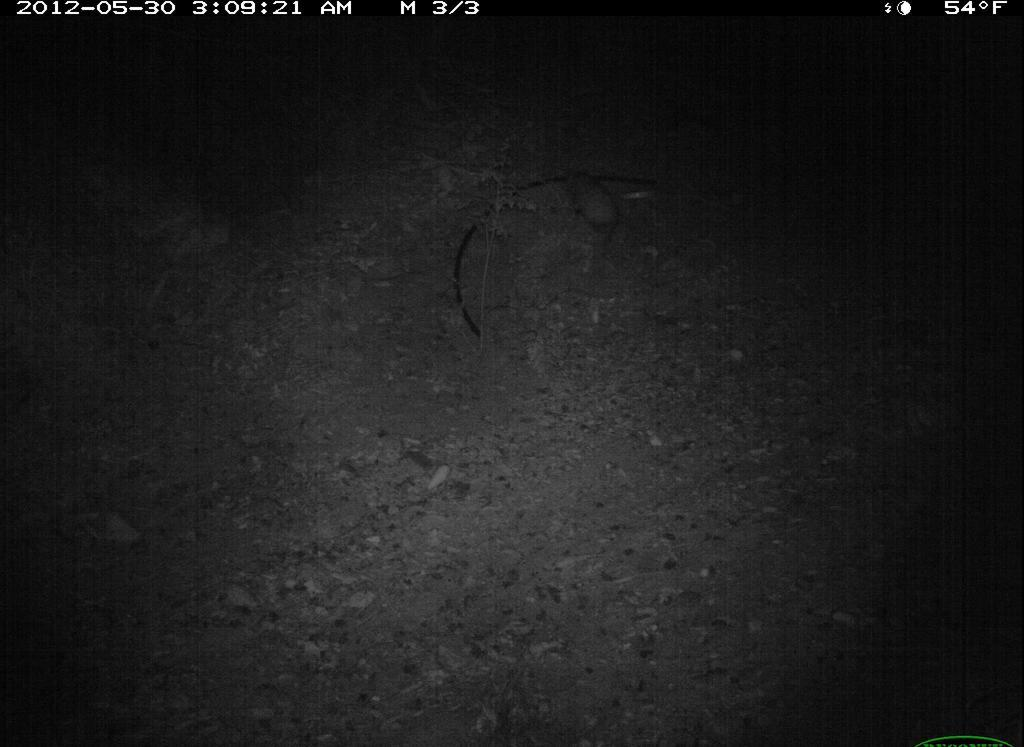opossum: (429, 136, 647, 340)
